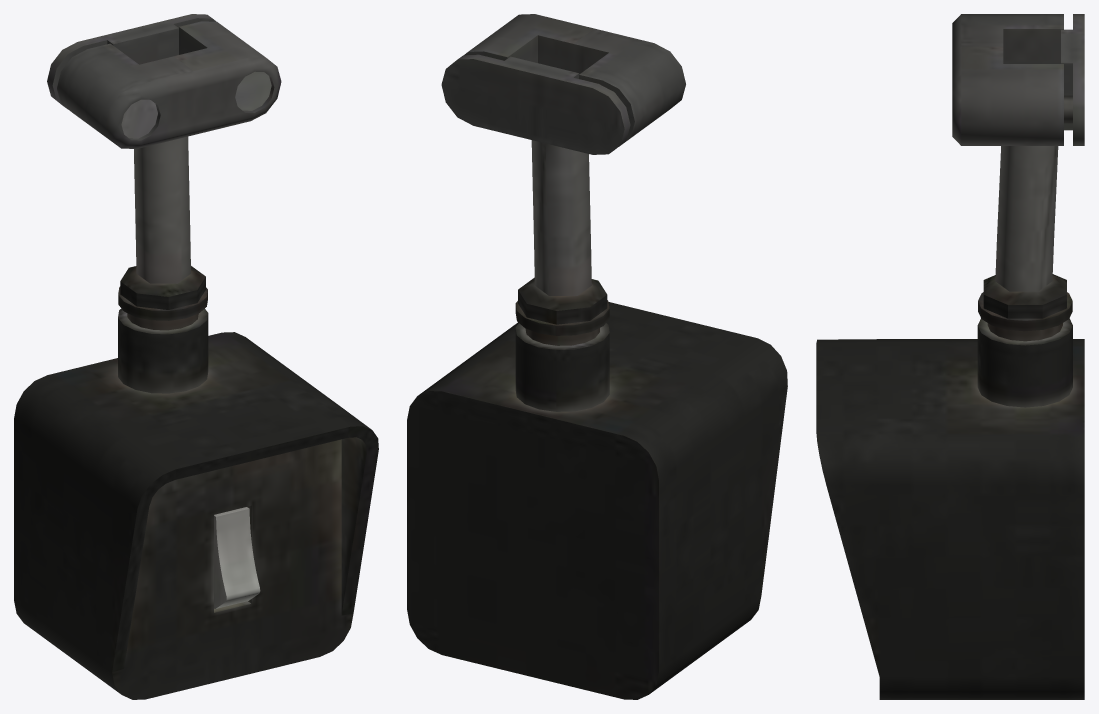
File: cable_lightswitch_2.gltf
3 renders of one model, left to right at view 1: azimuth 30°, elevation 25°; view 2: azimuth 150°, elevation 25°; view 3: azimuth 270°, elevation 25°, orthographic. The views are drawn at different scales.
Visible parts, largest first — view 1: cable_lightswitch_2; view 2: cable_lightswitch_2; view 3: cable_lightswitch_2.
Part boxes in pixels (box(x1,y1,x2,y2)): cable_lightswitch_2: box(14, 14, 378, 699); cable_lightswitch_2: box(407, 14, 787, 699); cable_lightswitch_2: box(816, 14, 1084, 699).
Size of the model in its own units: 0.0572 by 0.1311 by 0.0527.
1 material, 1 textured.
